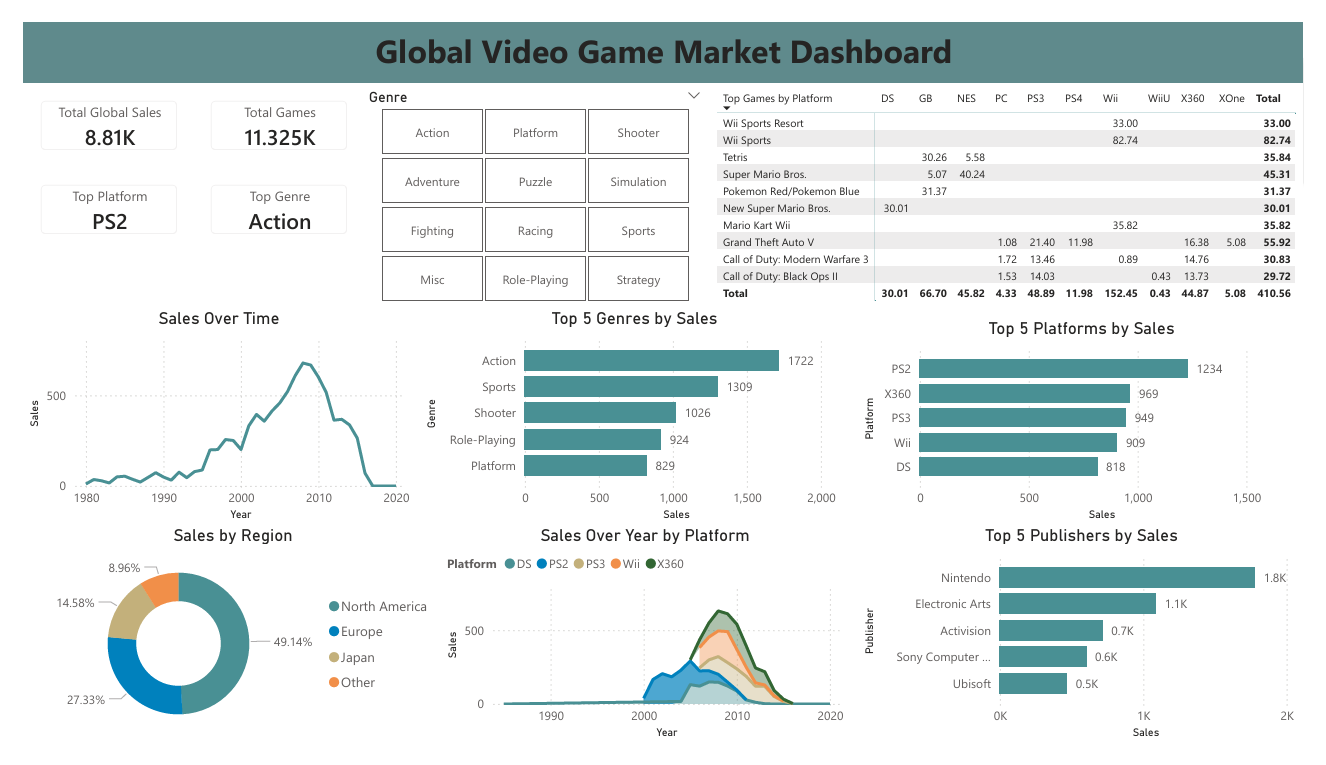

The page's visual inventory and layout, read from the dashboard file:
{"tool":"powerbi","page":{"name":"Overview","canvas":[1280,720],"ordinal":0},"visuals":[{"type":"textbox","box":[0,0,1280,61.3],"z":0},{"type":"cardVisual","fields":{"Data":["Sum(vgsales_cleaned.Global_Sales)"]},"box":[0,61.3,170.2,83.6],"z":1000},{"type":"cardVisual","fields":{"Data":["Count(vgsales_cleaned.Name)"]},"box":[170.2,61.3,170.2,83.6],"z":2000},{"type":"cardVisual","fields":{"Data":["vgsales_cleaned.Top Platform"]},"box":[0,144.9,170.2,83.6],"z":3000},{"type":"cardVisual","fields":{"Data":["vgsales_cleaned.Top Genre"]},"box":[170.2,144.9,170.2,83.6],"z":4000},{"type":"lineChart","title":"Sales Over Time","fields":{"Category":["vgsales_cleaned.Year"],"Y":["Sum(vgsales_cleaned.Total_Sales)"]},"box":[0,285,390,216.9],"z":5000},{"type":"barChart","title":"Top 5 Platforms by Sales","fields":{"Category":["vgsales_cleaned.Platform"],"Y":["Sum(vgsales_cleaned.Total_Sales)"]},"box":[834.5,294.7,445.5,207.2],"z":6000},{"type":"barChart","title":"Top 5 Genres by Sales","fields":{"Category":["vgsales_cleaned.Genre"],"Y":["Sum(vgsales_cleaned.Total_Sales)"]},"box":[396.8,285,427,216.9],"z":7000},{"type":"donutChart","title":"Sales by Region","fields":{"Y":["Sum(vgsales_cleaned.NA_Sales)","Sum(vgsales_cleaned.EU_Sales)","Sum(vgsales_cleaned.JP_Sales)","Sum(vgsales_cleaned.Other_Sales)"]},"box":[0,501.9,418.2,217.9],"z":8000},{"type":"pivotTable","fields":{"Rows":["vgsales_cleaned.Name"],"Columns":["vgsales_cleaned.Platform"],"Values":["Sum(vgsales_cleaned.Global_Sales)"]},"box":[688.6,61.3,591.4,223.7],"z":9000},{"type":"barChart","title":"Top 5 Publishers by Sales","fields":{"Category":["vgsales_cleaned.Publisher"],"Y":["Sum(vgsales_cleaned.Total_Sales)"]},"box":[834.5,501.9,445.5,217.9],"z":10000},{"type":"stackedAreaChart","title":"Sales Over Year by Platform","fields":{"Category":["vgsales_cleaned.Year"],"Y":["Sum(vgsales_cleaned.Total_Sales)"],"Series":["vgsales_cleaned.Platform"]},"box":[418.2,501.9,405.6,217.9],"z":11000},{"type":"slicer","fields":{"Values":["vgsales_cleaned.Genre"]},"box":[331.7,61.3,357,223.7],"z":12000}]}

Visuals, with their boxes in screenshot pixels (x1, y1, x2, y2), scaled from the page's 1280x720 canvas onto the 1326x765 screenshot:
textbox: bbox=[0, 0, 1325, 65]
cardVisual - Sum(vgsales_cleaned.Global_Sales): bbox=[0, 65, 176, 154]
cardVisual - Count(vgsales_cleaned.Name): bbox=[176, 65, 353, 154]
cardVisual - vgsales_cleaned.Top Platform: bbox=[0, 154, 176, 243]
cardVisual - vgsales_cleaned.Top Genre: bbox=[176, 154, 353, 243]
"Sales Over Time" lineChart: bbox=[0, 303, 404, 533]
"Top 5 Platforms by Sales" barChart: bbox=[864, 313, 1325, 533]
"Top 5 Genres by Sales" barChart: bbox=[411, 303, 853, 533]
"Sales by Region" donutChart: bbox=[0, 533, 433, 764]
pivotTable - vgsales_cleaned.Name x vgsales_cleaned.Platform: bbox=[713, 65, 1325, 303]
"Top 5 Publishers by Sales" barChart: bbox=[864, 533, 1325, 764]
"Sales Over Year by Platform" stackedAreaChart: bbox=[433, 533, 853, 764]
slicer - vgsales_cleaned.Genre: bbox=[344, 65, 713, 303]
